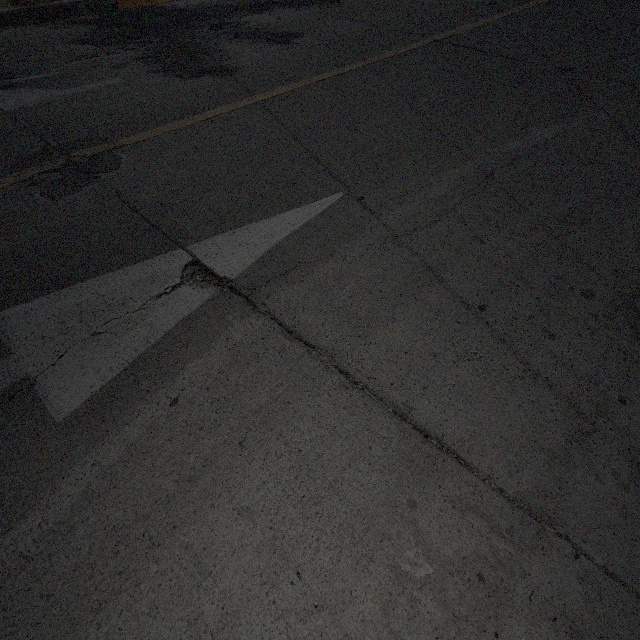pothole: (178, 252, 234, 296), (30, 162, 64, 187), (208, 18, 250, 35)
